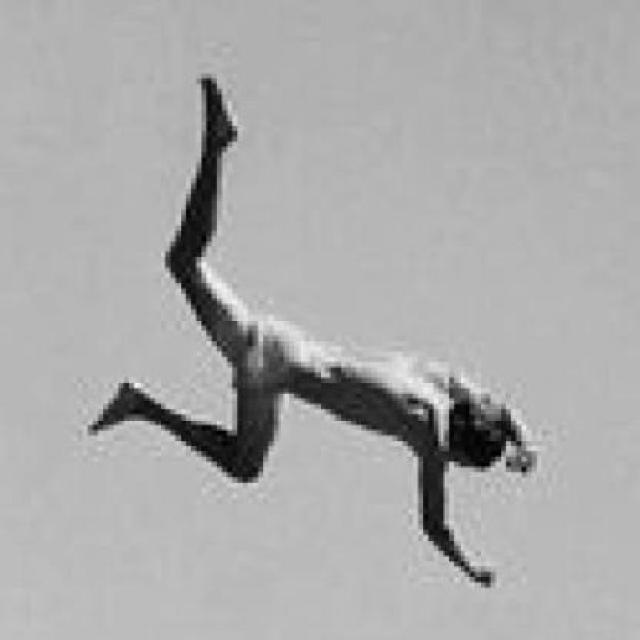fall: (85, 68, 540, 594)
